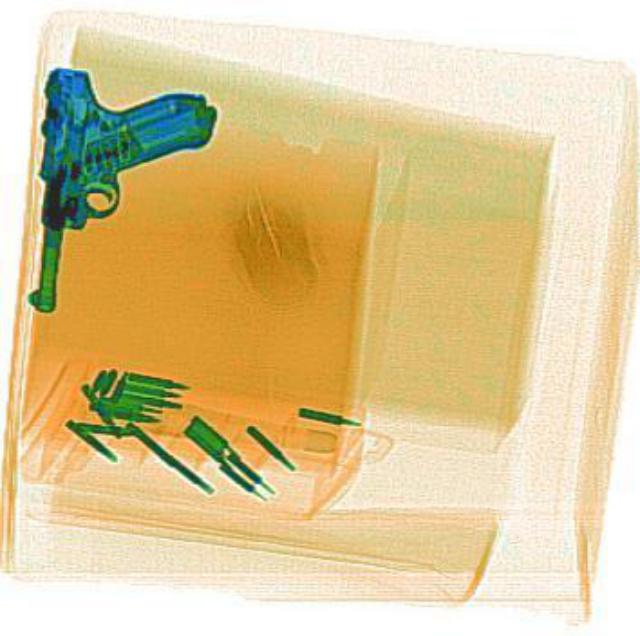Gun: (13, 62, 216, 323)
